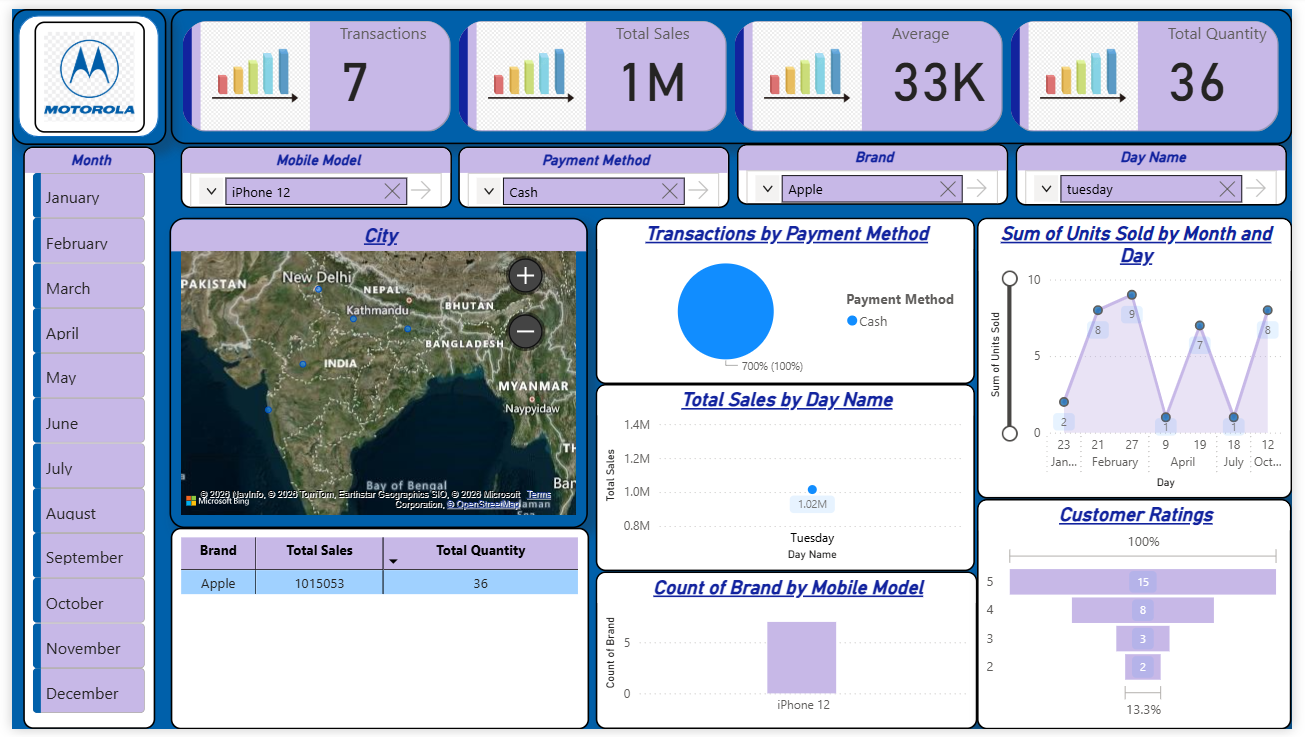

The dashboard page shown, as its layout file describes it:
{"tool":"powerbi","page":{"name":"Page 1","canvas":[1280,720],"ordinal":0},"visuals":[{"type":"shape","box":[0,0,154.3,135.7],"z":0},{"type":"advancedSlicerVisual","fields":{"Values":["Sales_Data.Date.Variation.Date Hierarchy.Month"]},"box":[11.5,137.7,132.3,582.3],"z":2000},{"type":"image","box":[22.9,12.9,110,111.4],"z":3000},{"type":"cardVisual","fields":{"Data":["Sales_Data.Transactions","Sales_Data.totalsales","Sales_Data.Average","Sales_Data.Total Quantity"]},"box":[158.3,0,1121.7,135],"z":4000},{"type":"map","fields":{"Category":["Sales_Data.City"]},"box":[158,208.7,418.6,310.1],"z":5000},{"type":"lineChart","fields":{"Y":["Sum(Sales_Data.Units Sold)"],"Category":["Sales_Data.Date.Variation.Date Hierarchy.Month","Sales_Data.Date.Variation.Date Hierarchy.Day"]},"box":[965.2,208.7,314.9,281.1],"z":6000},{"type":"columnChart","fields":{"Category":["Sales_Data.Mobile Model"],"Y":["CountNonNull(Sales_Data.Brand)"]},"box":[583.6,562.7,381.8,157.3],"z":7000},{"type":"pieChart","fields":{"Category":["Sales_Data.Payment Method"],"Y":["Sales_Data.Transactions"]},"box":[583.9,208.7,378.8,166.5],"z":8000},{"type":"funnel","title":"Customer Ratings","fields":{"Category":["Sales_Data.Customer Ratings"],"Y":["Sum(Sales_Data.Customer Ratings)"]},"box":[965.6,490,314.4,230],"z":9000},{"type":"areaChart","fields":{"Category":["Sales_Data.Day Name"],"Y":["Sales_Data.totalsales"]},"box":[583.6,375.5,379.1,187.3],"z":10000},{"type":"tableEx","fields":{"Values":["Sales_Data.Brand","Sales_Data.totalsales","Sales_Data.Total Quantity"]},"box":[158.3,518.3,418.3,201.7],"z":11000},{"type":"textSlicer","fields":{"Values":["Sales_Data.Mobile Model"]},"box":[168.5,136.9,271.5,61.5],"z":12000},{"type":"textSlicer","fields":{"Values":["Sales_Data.Payment Method"]},"box":[445.7,137.1,271.4,61.4],"z":14000},{"type":"textSlicer","fields":{"Values":["Sales_Data.Brand"]},"box":[725.5,135.5,270.9,60.9],"z":15000},{"type":"textSlicer","fields":{"Values":["Sales_Data.Day Name"]},"box":[1003.8,135.1,271.4,61.5],"z":16000}]}

Visuals, with their boxes in screenshot pixels (x1, y1, x2, y2), scaled from the page's 1280x720 canvas onto the 1305x737 screenshot:
shape: rect(0, 0, 157, 139)
advancedSlicerVisual - Sales_Data.Date.Variation.Date Hierarchy.Month: rect(12, 141, 147, 736)
image: rect(23, 13, 135, 127)
cardVisual - Sales_Data.Transactions x Sales_Data.totalsales: rect(161, 0, 1304, 138)
map - Sales_Data.City: rect(161, 214, 588, 531)
lineChart - Sum(Sales_Data.Units Sold) x Sales_Data.Date.Variation.Date Hierarchy.Month: rect(984, 214, 1304, 501)
columnChart - Sales_Data.Mobile Model x CountNonNull(Sales_Data.Brand): rect(595, 576, 984, 736)
pieChart - Sales_Data.Payment Method x Sales_Data.Transactions: rect(595, 214, 982, 384)
"Customer Ratings" funnel: rect(984, 502, 1304, 736)
areaChart - Sales_Data.Day Name x Sales_Data.totalsales: rect(595, 384, 982, 576)
tableEx - Sales_Data.Brand x Sales_Data.totalsales: rect(161, 531, 588, 736)
textSlicer - Sales_Data.Mobile Model: rect(172, 140, 449, 203)
textSlicer - Sales_Data.Payment Method: rect(454, 140, 731, 203)
textSlicer - Sales_Data.Brand: rect(740, 139, 1016, 201)
textSlicer - Sales_Data.Day Name: rect(1023, 138, 1300, 201)
